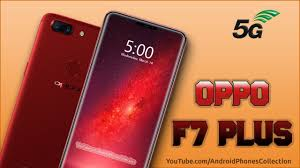oppo: (57, 9, 188, 168), (1, 9, 98, 168)
